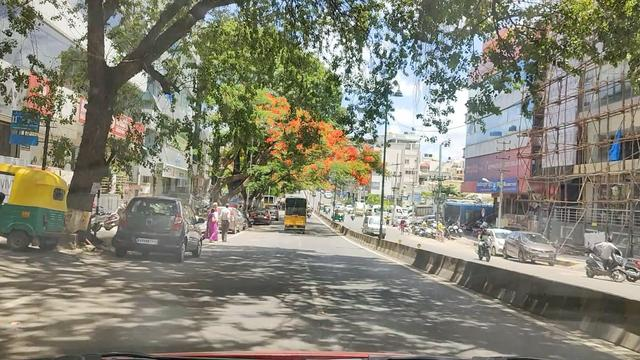HMV: (286, 199, 307, 232)
LMV: (106, 187, 189, 263)
